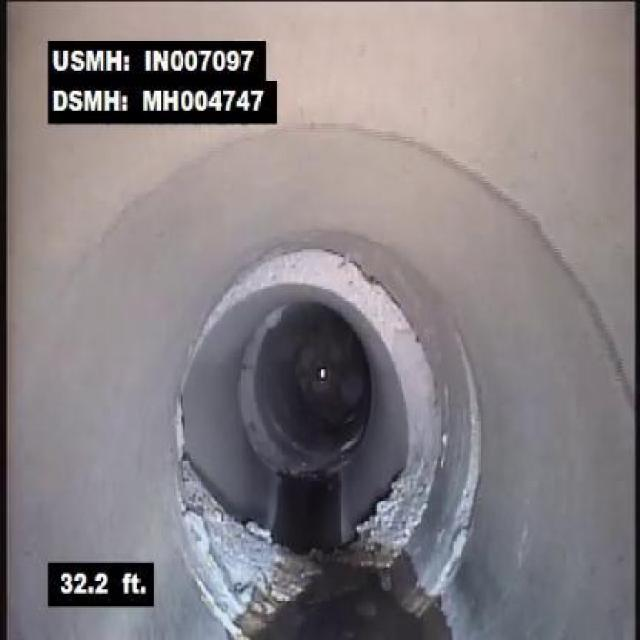Joint offset: (375, 316, 448, 516), (203, 230, 388, 304)
